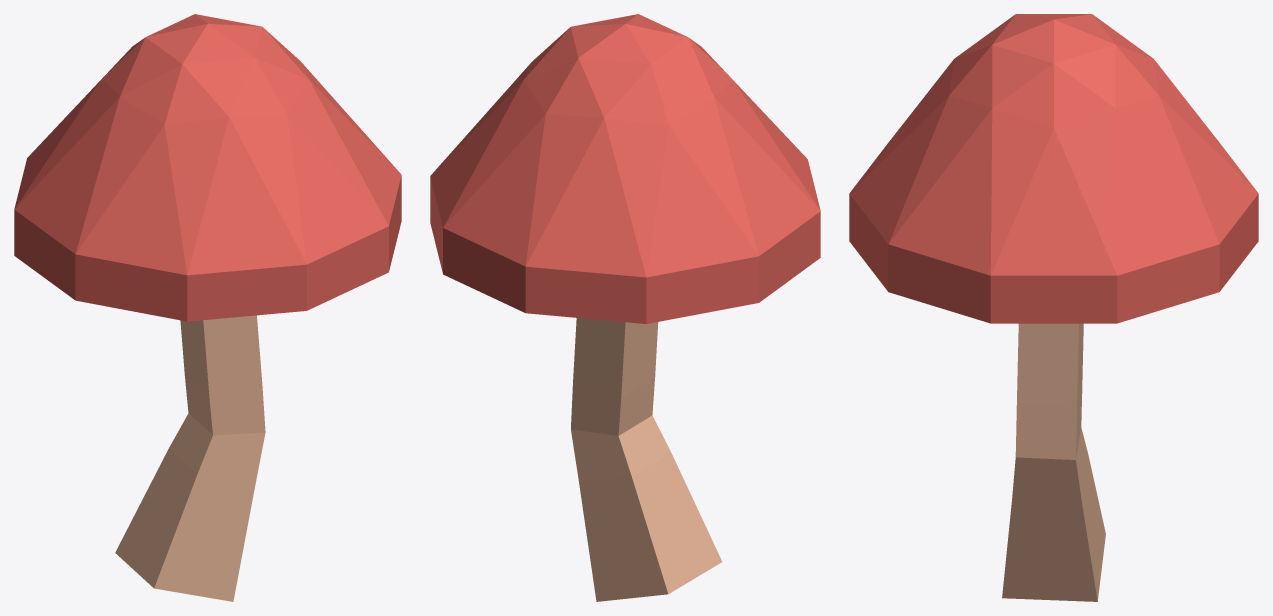
Rendered from mushroom 1.fbx.
3 renders of one model, left to right at view 1: azimuth 30°, elevation 25°; view 2: azimuth 150°, elevation 25°; view 3: azimuth 270°, elevation 25°, orthographic. The views are drawn at different scales.
Visible parts, largest first — view 1: Cube; view 2: Cube; view 3: Cube.
Boxes of the visible parts, box(x1,y1,x2,y2) form: Cube: box(14, 14, 401, 601); Cube: box(430, 14, 820, 601); Cube: box(849, 14, 1258, 601).
Size of the model in its own units: 57.4 by 94.13 by 60.35.
